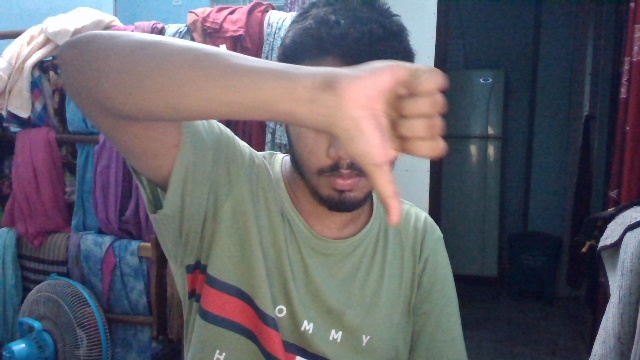no: (333, 61, 456, 231)
